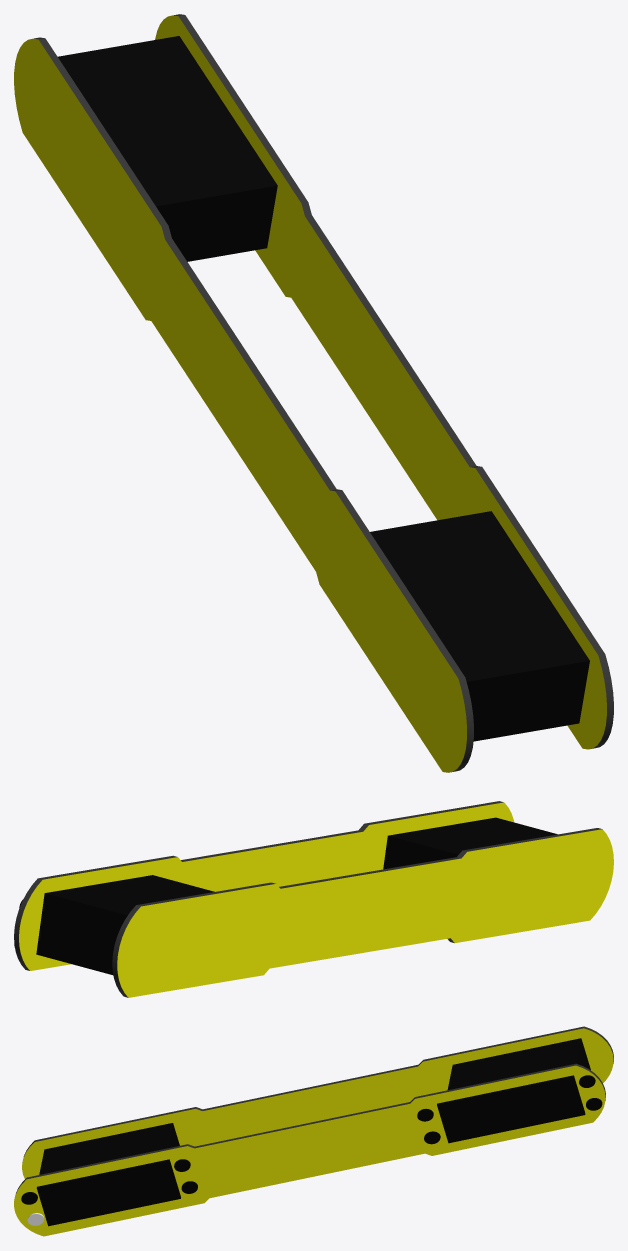
File: sgmNormal2.dae
The picture shows the model from 3 angles, top to bottom: view 1: azimuth 30°, elevation 25°; view 2: azimuth 150°, elevation 25°; view 3: azimuth 270°, elevation 25°; orthographic projection. The views are drawn at different scales.
Parts seen in each view (by area): view 1: group_0 (×6); view 2: group_0 (×6); view 3: group_0 (×8).
Part boxes in pixels (box(x1,y1,x2,y2)): group_0 (×6): box(14, 14, 613, 772); group_0 (×6): box(14, 801, 613, 997); group_0 (×8): box(14, 1026, 613, 1236).
Bounding box in the file's own units: 0.6575 × 2.71 × 0.9722.
